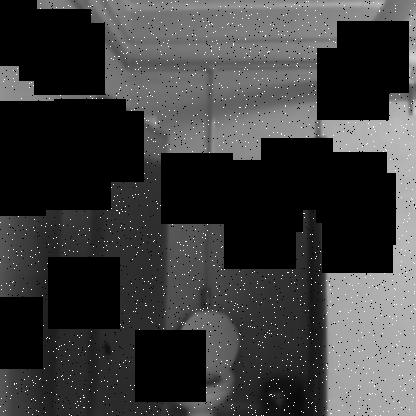Porte: (83, 95, 328, 415)
